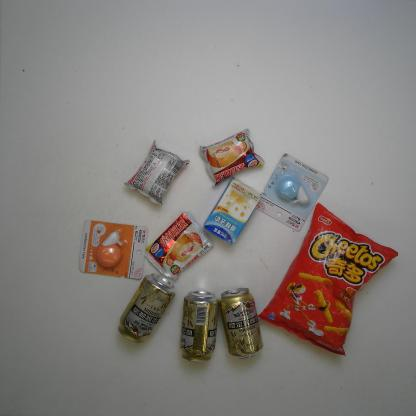Alcohol: (117, 272, 176, 344), (219, 287, 264, 359), (180, 290, 220, 364)
Dessert: (144, 211, 215, 281), (123, 140, 190, 206), (199, 128, 265, 187)
Milk: (203, 176, 261, 246)
Puffed Food: (256, 202, 399, 357)
Stationery: (254, 152, 329, 232), (78, 220, 149, 280)
